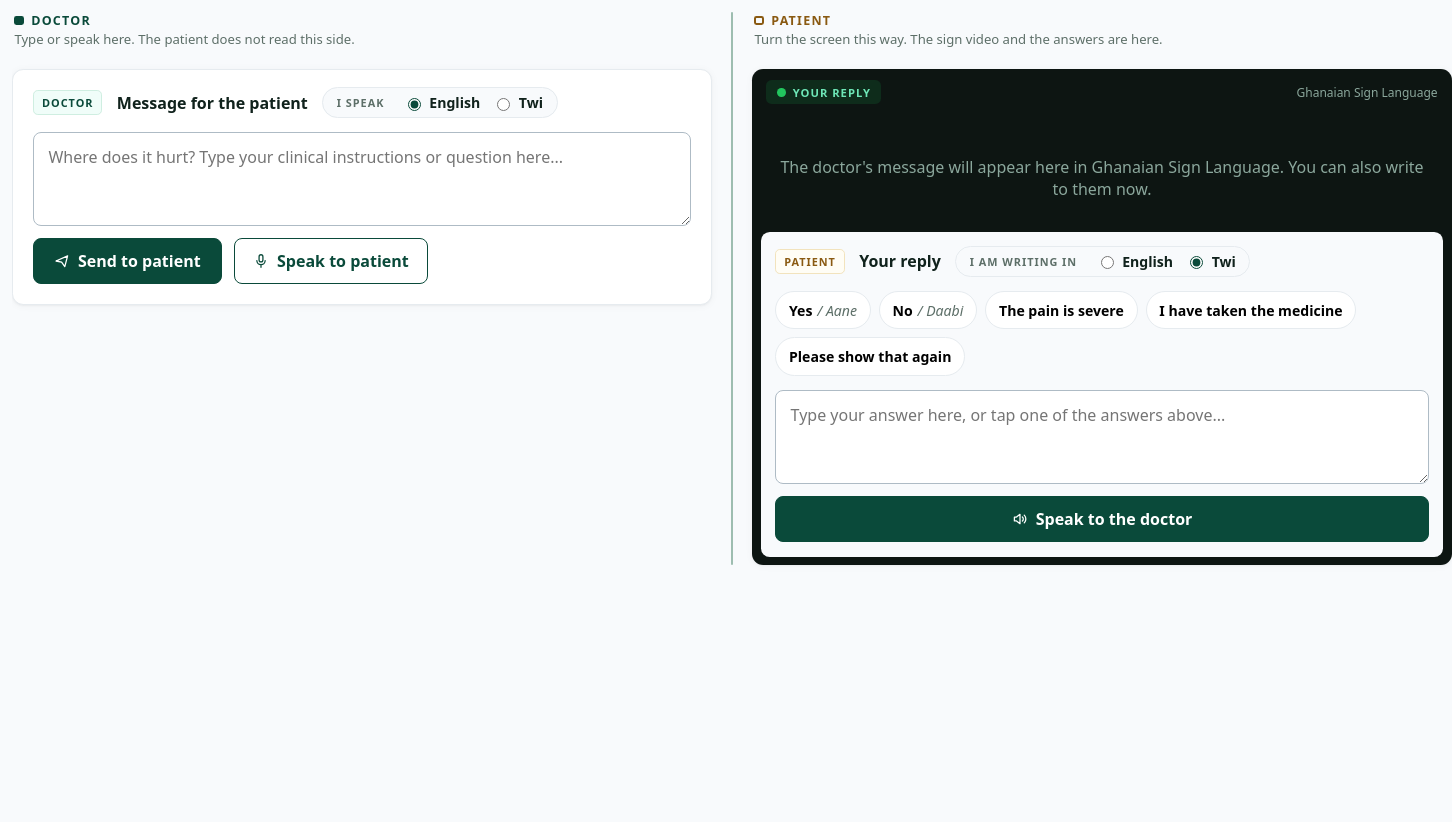
Test: DoctorConsultation › holds a spelled word behind the gate until the doctor checks it
The width and height of the screenshot is (1452, 822).
Step 1. Type "head hurts" into the text box named "message for the patient" → {"x": 362, "y": 179}, box [33,132,691,226]
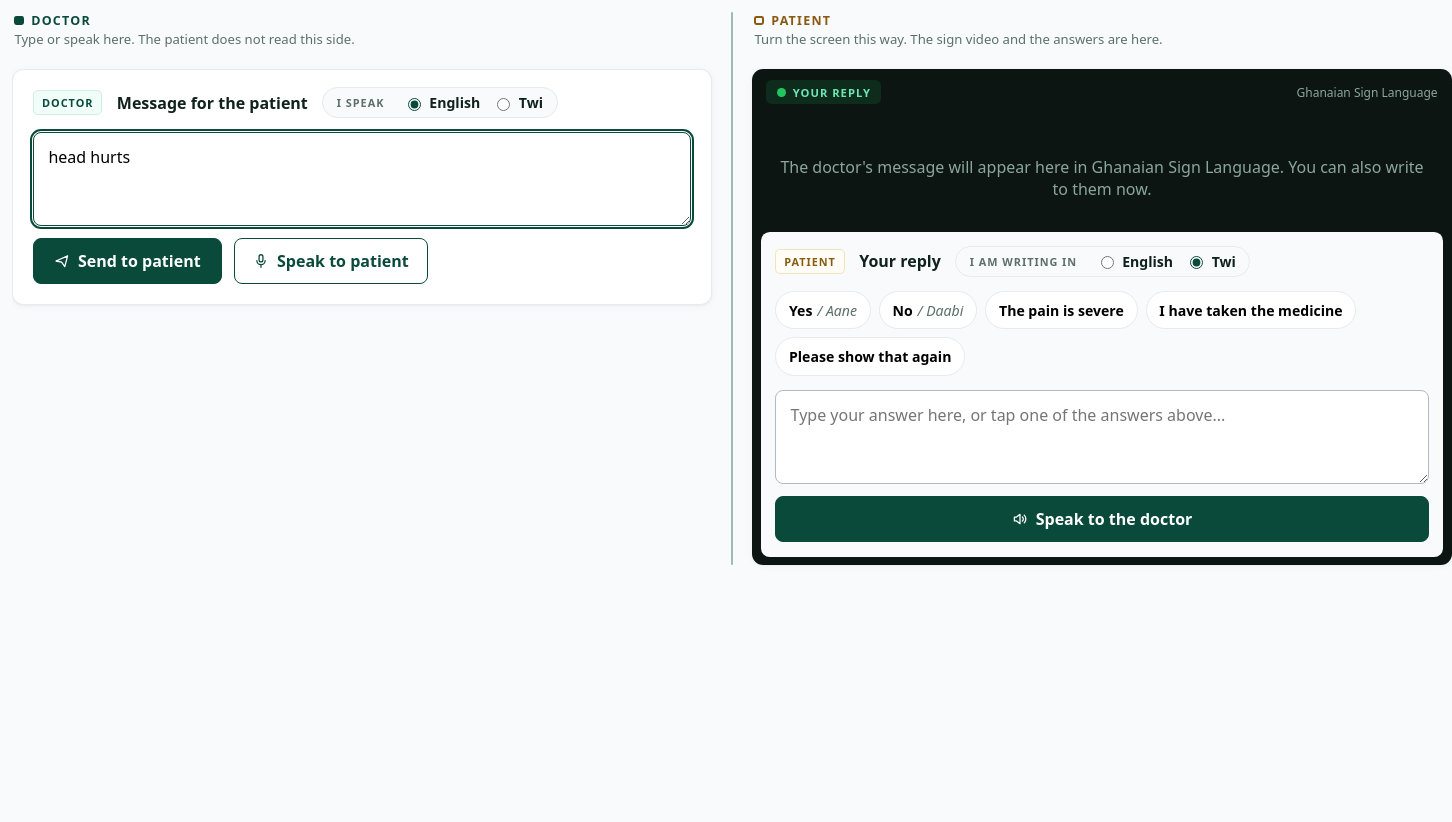
Step 2. Click the button "Send to patient" → {"x": 127, "y": 261}, box [33,238,222,284]
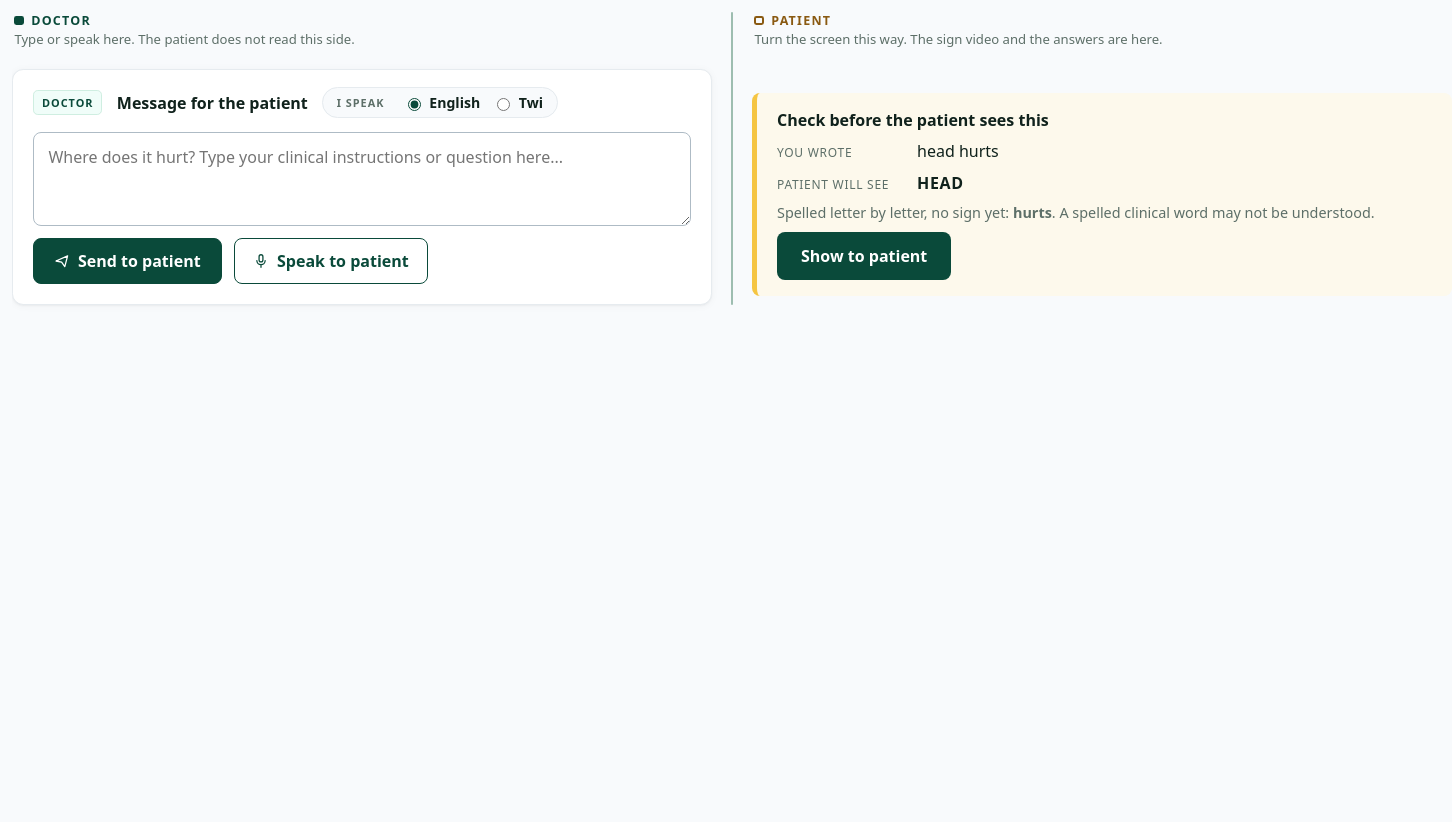
Now the element with test id "confirm-spelled" shows "hurts", box [1013,204,1052,222]
